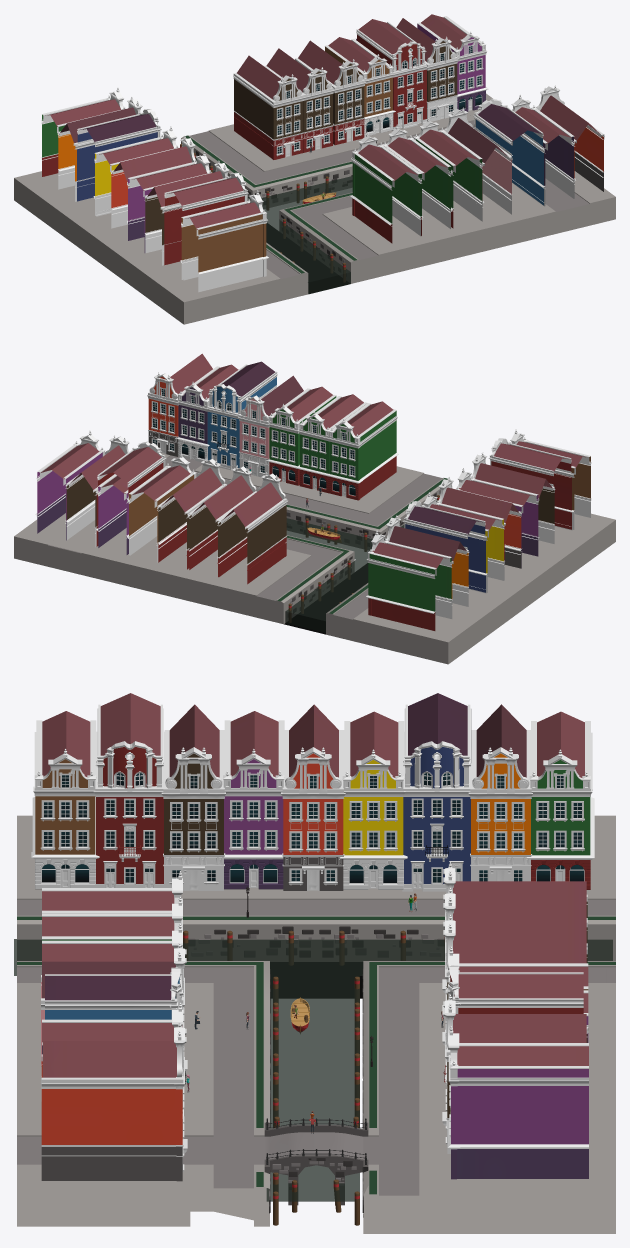
Rendered from base-ams-9.glb.
3 renders of one model, top to bottom at view 1: azimuth 30°, elevation 25°; view 2: azimuth 150°, elevation 25°; view 3: azimuth 270°, elevation 25°, orthographic. The views are drawn at different scales.
Parts seen in each view (by area): view 1: Ground, Parts_geo_25_New_color_palette_mat_0.004, Parts_geo_10_New_color_palette_mat_0.002, Water_geo, Parts_geo_14_New_color_palette_mat_0.005, Parts_geo_28_New_color_palette_mat_0.002, Parts_geo_14_New_color_palette_mat_0.004, Parts_geo_23_New_color_palette_mat_0.004, Parts_geo_10_New_color_palette_mat_0.009, Parts_geo_22_New_color_palette_mat_0.001, Parts_geo_10_New_color_palette_mat_0.001, Parts_geo_01_New_color_palette_mat_0.005 (+22 smaller); view 2: Ground, Parts_geo_10_New_color_palette_mat_0.007, Parts_geo_28_New_color_palette_mat_0.002, Water_geo, Parts_geo_10_New_color_palette_mat_0.002, Parts_geo_07_New_color_palette_mat_0.001, Parts_geo_25_New_color_palette_mat_0.005, Parts_geo_14_New_color_palette_mat_0.004, Parts_geo_23_New_color_palette_mat_0.004, Parts_geo_28_New_color_palette_mat_0.003, Parts_geo_28_New_color_palette_mat_0.001, Parts_geo_13 (+21 smaller); view 3: Ground, Water_geo, Parts_geo_16, Parts_geo_07_New_color_palette_mat_0.001, Parts_geo_22_New_color_palette_mat_0.003, Parts_geo_13_New_color_palette_mat_0.003, Parts_geo_17_New_color_palette_mat_0.003, Parts_geo_20_New_color_palette_mat_0.003, Parts_geo_11_New_color_palette_mat_0.005, Parts_geo_26_New_color_palette_mat_0.003, Parts_geo_08_New_color_palette_mat_0.003, Parts_geo_02_New_color_palette_mat_0.003 (+25 smaller).
Part boxes in pixels (x1,y1,x2,y2): Ground: (14,93,615,324); Parts_geo_25_New_color_palette_mat_0.004: (180,201,262,292); Parts_geo_10_New_color_palette_mat_0.002: (353,144,423,243); Water_geo: (195,159,352,294); Parts_geo_14_New_color_palette_mat_0.005: (475,104,544,206); Parts_geo_28_New_color_palette_mat_0.002: (233,55,280,158); Parts_geo_14_New_color_palette_mat_0.004: (77,114,157,216); Parts_geo_23_New_color_palette_mat_0.004: (164,178,244,280); Parts_geo_10_New_color_palette_mat_0.009: (416,129,484,228); Parts_geo_22_New_color_palette_mat_0.001: (391,41,427,130); Parts_geo_10_New_color_palette_mat_0.001: (384,137,452,235); Parts_geo_01_New_color_palette_mat_0.005: (448,118,512,221); Ground: (14,453,615,664); Parts_geo_10_New_color_palette_mat_0.007: (368,541,452,630); Parts_geo_28_New_color_palette_mat_0.002: (217,482,285,584); Water_geo: (285,501,436,632); Parts_geo_10_New_color_palette_mat_0.002: (332,401,398,498); Parts_geo_07_New_color_palette_mat_0.001: (35,443,102,540); Parts_geo_25_New_color_palette_mat_0.005: (127,465,193,562); Parts_geo_14_New_color_palette_mat_0.004: (405,506,486,593); Parts_geo_23_New_color_palette_mat_0.004: (491,443,572,530); Parts_geo_28_New_color_palette_mat_0.003: (157,468,224,569); Parts_geo_28_New_color_palette_mat_0.001: (188,475,254,576); Parts_geo_13: (206,384,242,470); Ground: (17,815,615,1233); Water_geo: (14,939,612,1201); Parts_geo_16: (41,1041,180,1180); Parts_geo_07_New_color_palette_mat_0.001: (457,1043,588,1178); Parts_geo_22_New_color_palette_mat_0.003: (93,741,164,887); Parts_geo_13_New_color_palette_mat_0.003: (401,741,470,891); Parts_geo_17_New_color_palette_mat_0.003: (281,747,345,890); Parts_geo_20_New_color_palette_mat_0.003: (161,747,225,890); Parts_geo_11_New_color_palette_mat_0.005: (339,749,407,889); Parts_geo_26_New_color_palette_mat_0.003: (31,749,99,889); Parts_geo_08_New_color_palette_mat_0.003: (223,749,284,889); Parts_geo_02_New_color_palette_mat_0.003: (468,747,532,881).
Size of the model in its own units: 27.24 by 6.3 by 18.3.
10 materials, 9 textured.
